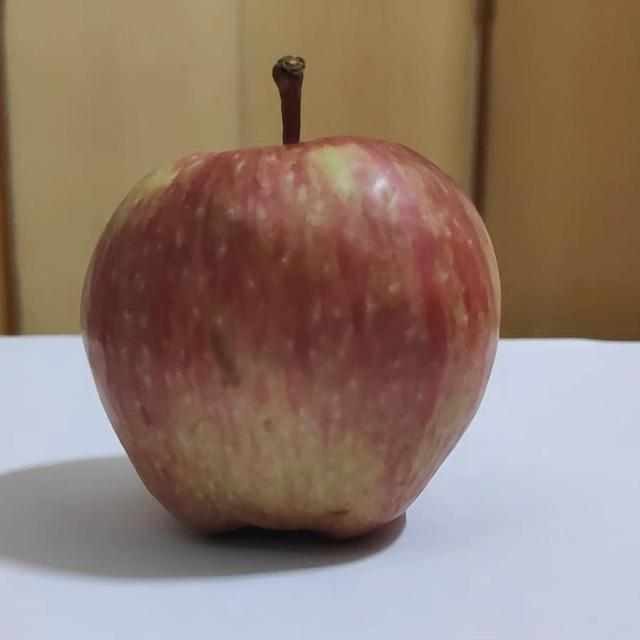Apple: (81, 57, 500, 536)
